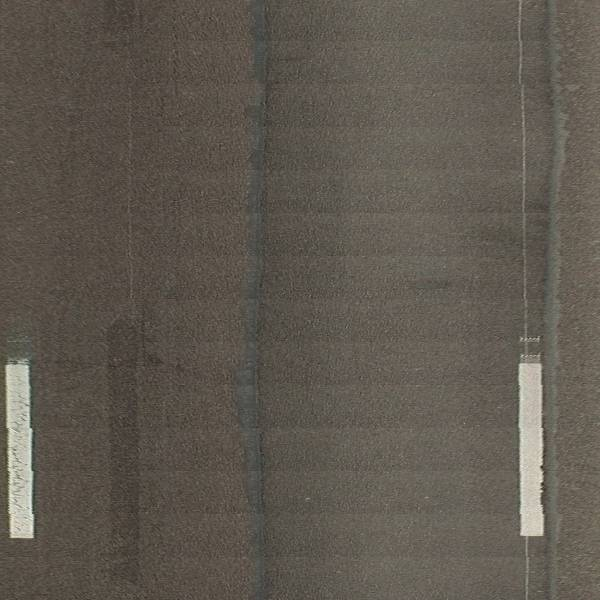road_damage: (242, 3, 276, 600), (526, 1, 561, 356)
